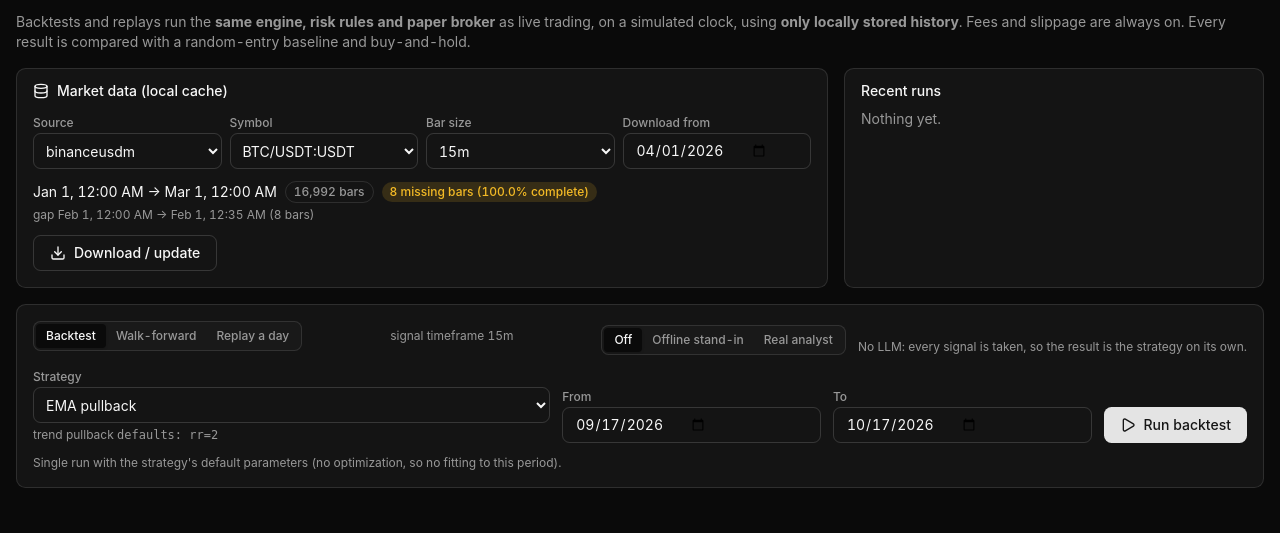
Test: BacktestPage › blocks a bar size that does not divide the signal timeframe
Select "1h" in the dropdown labelled "Bar size" at (520, 151), box [426,133,614,169]
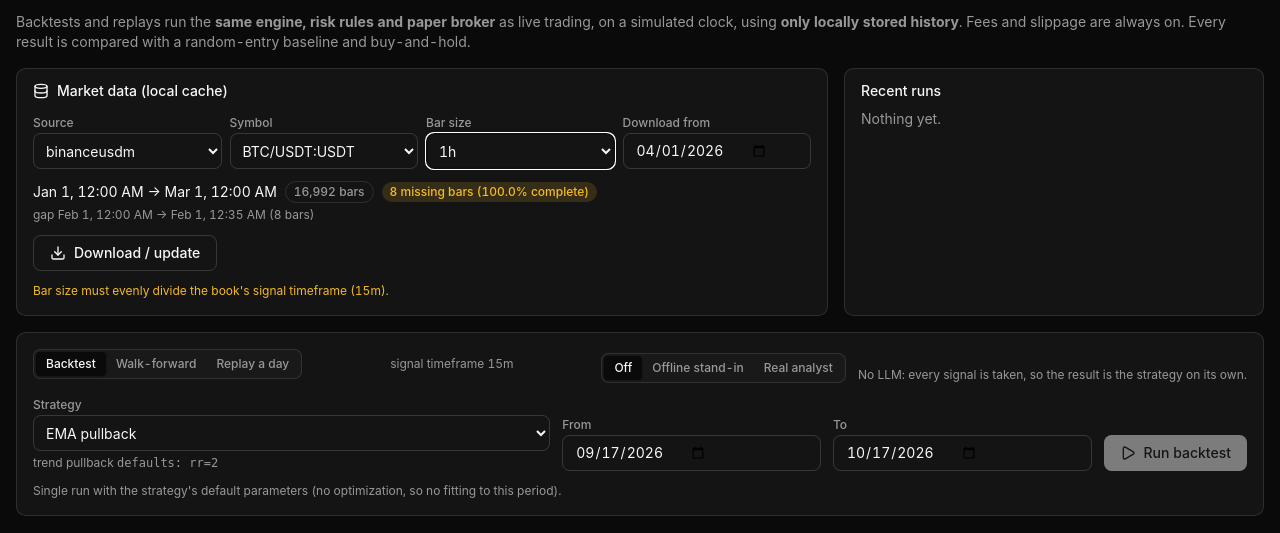
Now the text "must evenly divide" is shown, box [33,283,355,298]
Now the button "Run backtest" is disabled, box [1104,435,1247,471]
